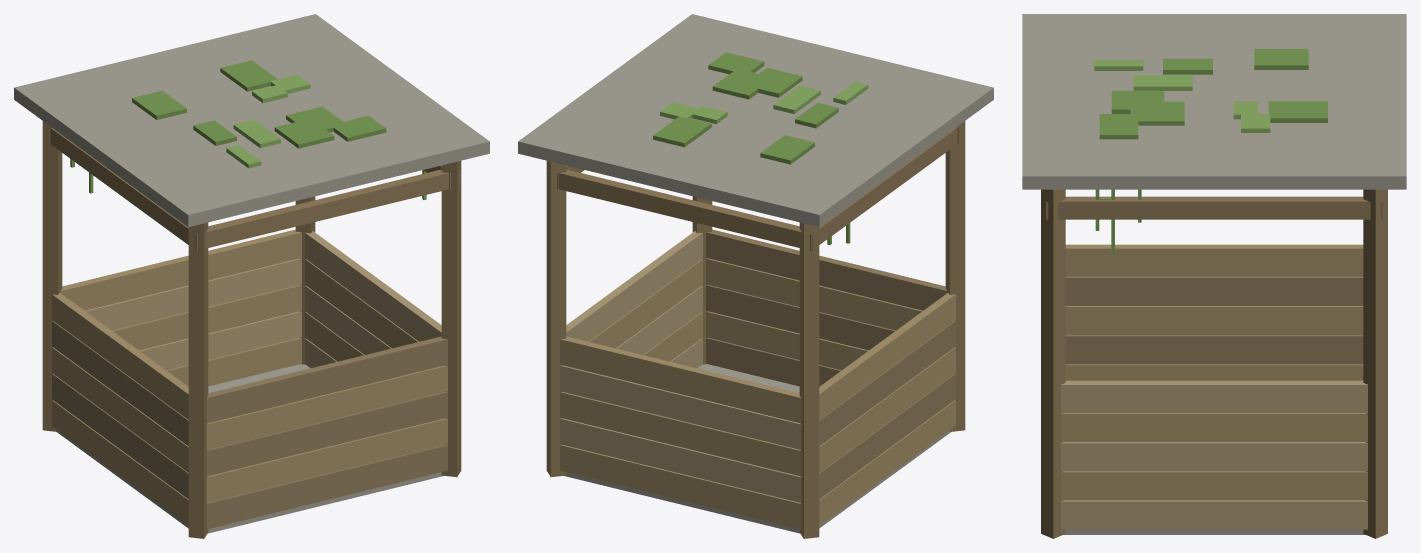
File: Watchpost.fbx
3 views of the same model, side by side, from view 1: azimuth 30°, elevation 25°; view 2: azimuth 150°, elevation 25°; view 3: azimuth 270°, elevation 25° (orthographic). The views are drawn at different scales.
Visible parts, largest first — view 1: GB_Floor; view 2: GB_Floor; view 3: GB_Floor.
Boxes of the visible parts, x1,y1,x2,y2 form: GB_Floor: (14, 14, 489, 538); GB_Floor: (518, 14, 993, 538); GB_Floor: (1022, 14, 1406, 538).
Size of the model in its own units: 2.78 by 3 by 2.78.
